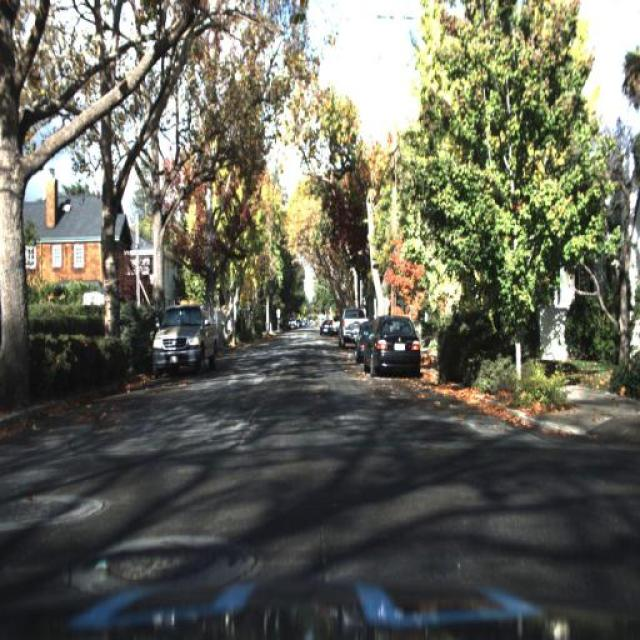car: (153, 304, 221, 370), (361, 311, 422, 379), (336, 302, 369, 351), (339, 309, 357, 352), (357, 316, 372, 364), (315, 311, 333, 334)
